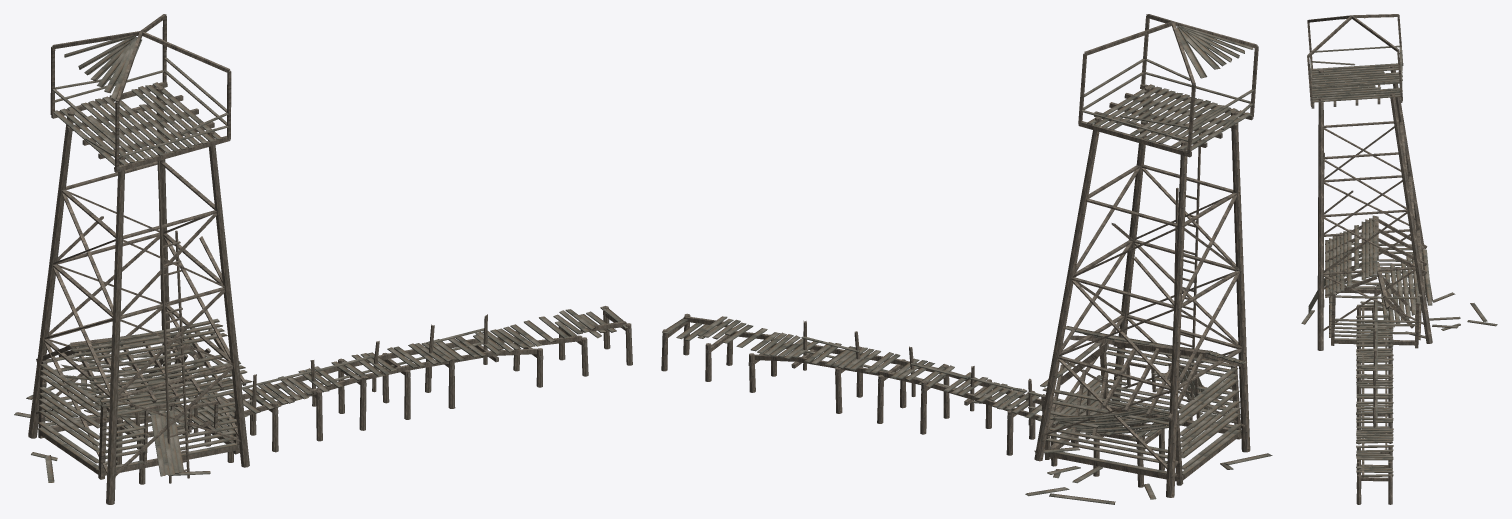
File: ruins.glb
The picture shows the model from 3 angles, left to right: view 1: azimuth 30°, elevation 25°; view 2: azimuth 150°, elevation 25°; view 3: azimuth 270°, elevation 25°; orthographic projection. The views are drawn at different scales.
Visible parts, largest first — view 1: tower, cabin, boardwalk, fence; view 2: tower, cabin, boardwalk, fence; view 3: tower, cabin, boardwalk, fence.
Part boxes in pixels (x1,y1,x2,y2): tower: (28,14,249,504); cabin: (14,318,252,482); boardwalk: (116,306,632,484); fence: (135,314,487,449); tower: (1034,14,1258,497); cabin: (1025,326,1272,504); boardwalk: (661,313,1164,487); fence: (801,320,1146,450); tower: (1307,14,1432,350); cabin: (1301,215,1497,348); boardwalk: (1356,301,1393,504); fence: (1372,286,1377,433).
Size of the model in its own units: 22.86 by 16.81 by 9.36.
2 materials, 2 textured.
